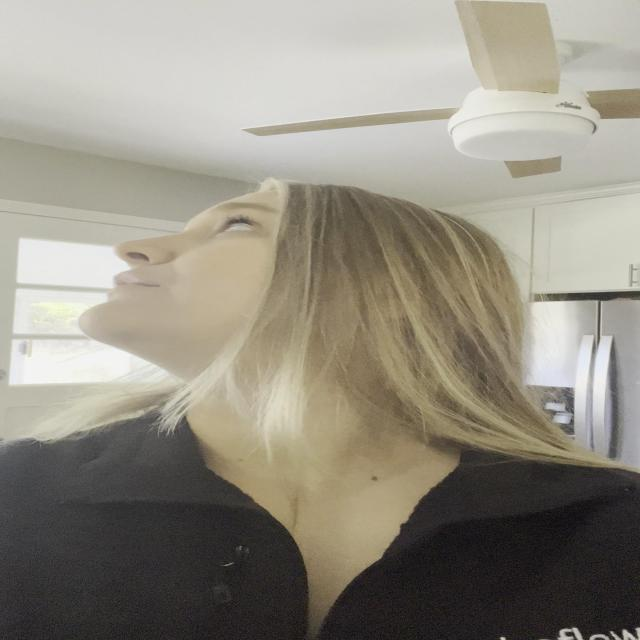no-helmet: (75, 188, 298, 350)
